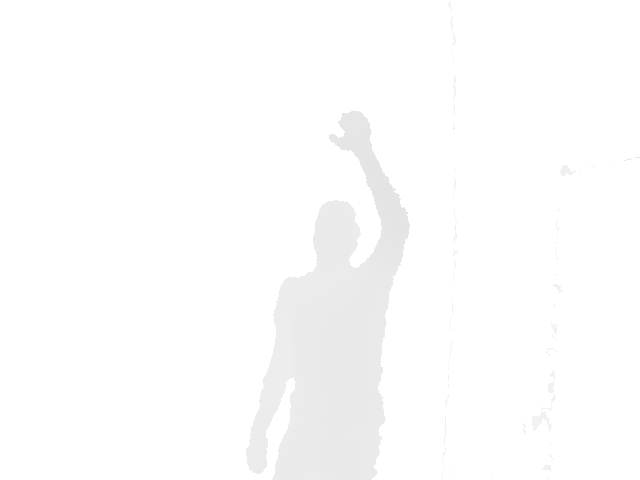hand: (329, 109, 375, 153)
head: (312, 200, 360, 275)
person: (245, 109, 411, 479)
